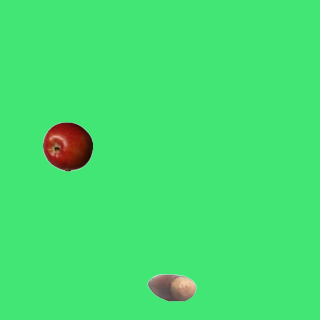Apple Braeburn: (42, 121, 92, 171)
Hazelnut: (146, 262, 196, 312)
